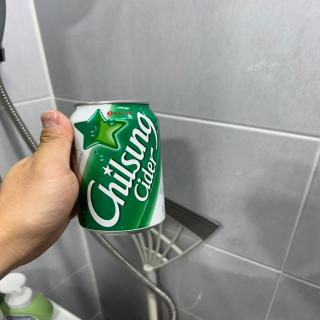chilsung: (65, 99, 168, 237)
